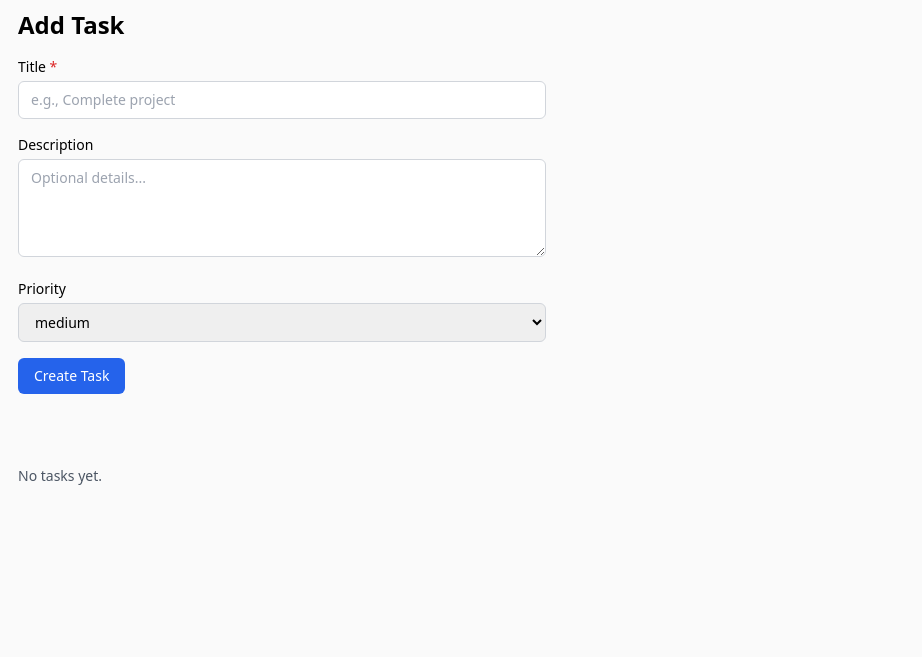
creating a task refreshes the list
Expected: the text "No tasks yet." is shown, [18,466,102,485]
Type "T1" into the field labelled "Title *".
click(282, 100); type("T1")  # box [18,81,546,119]
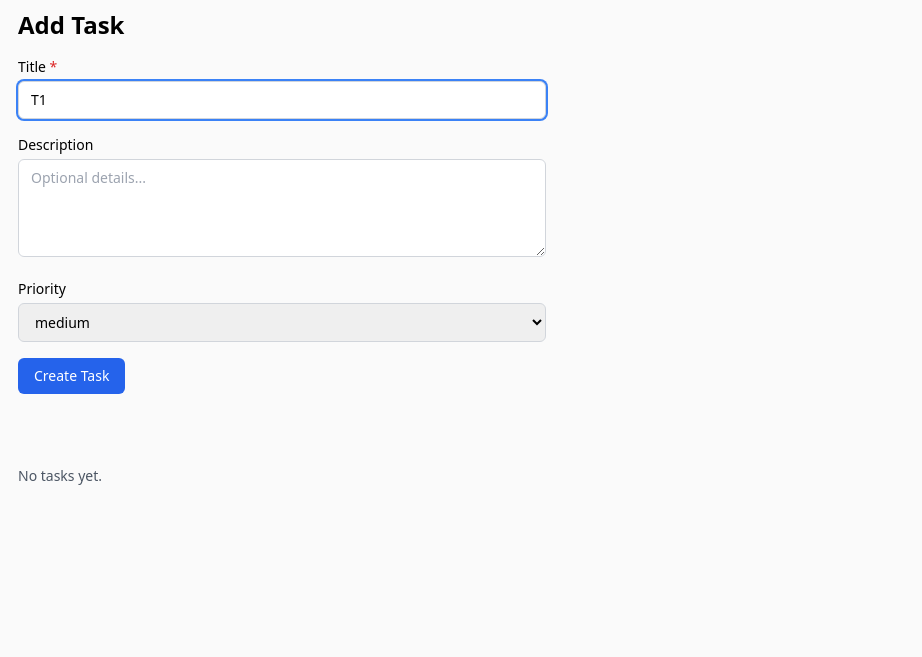
Click the button "Create Task".
click(72, 376)  # box [18,358,125,394]
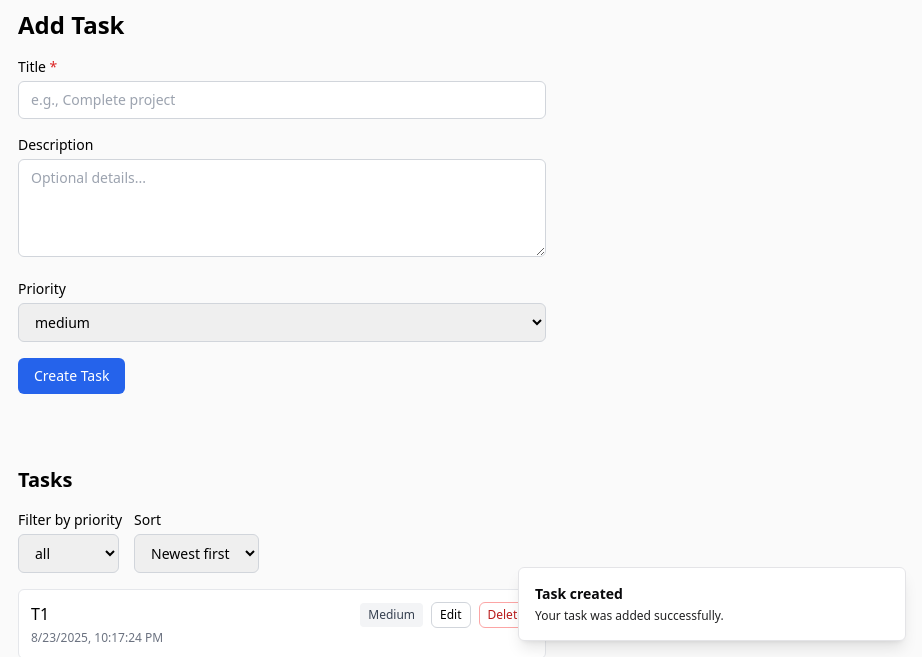
Result: the text "T1" is shown at [31,603,49,625]
